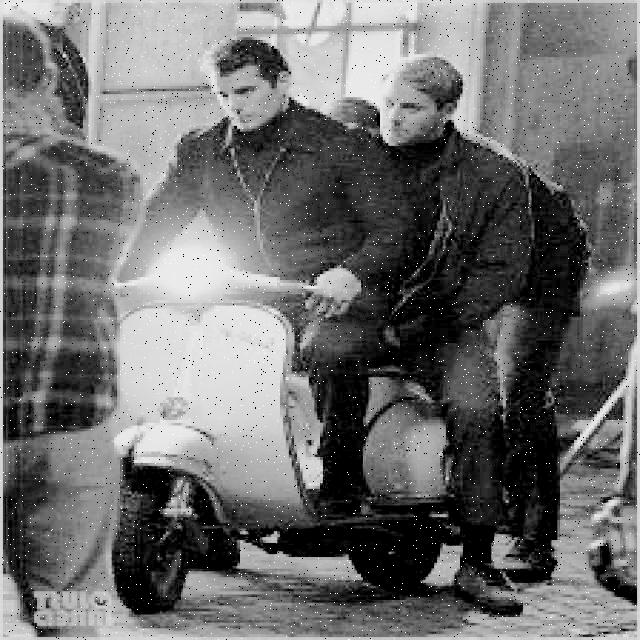Bike: (123, 252, 448, 598)
